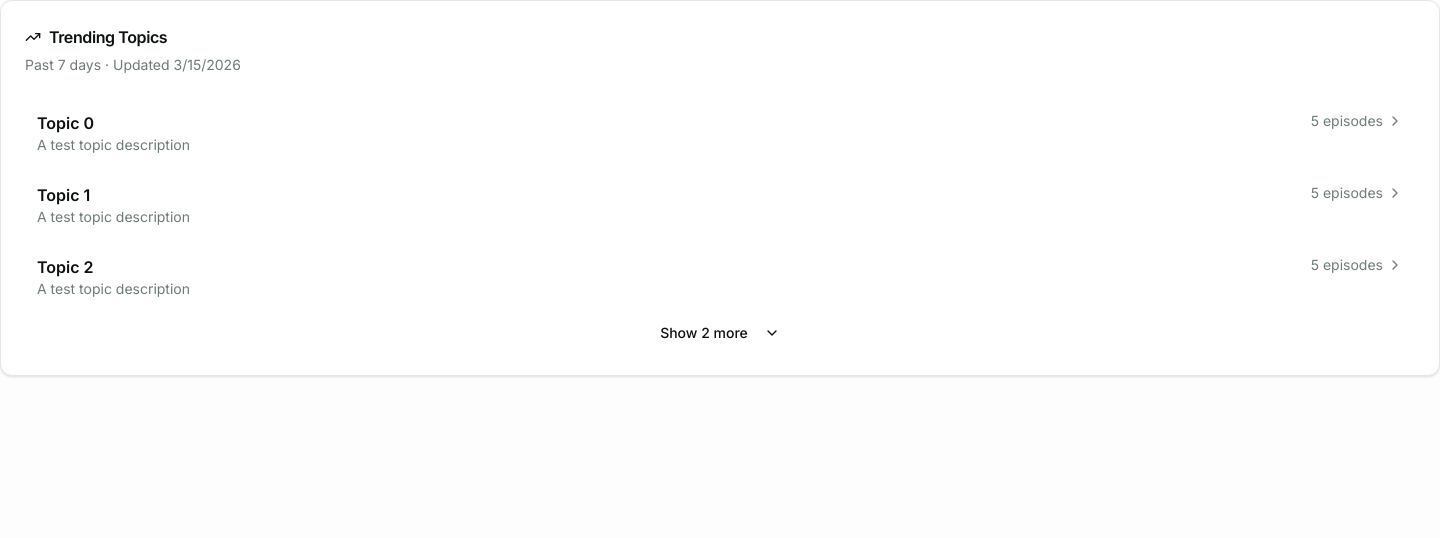
Test: TrendingTopics › toggle behaviour › shows 'Show less' button after expanding and re-collapses when clicked
The image size is (1440, 538).
Click the button "Show 2 more" at (720, 333), box [25,315,1415,351]
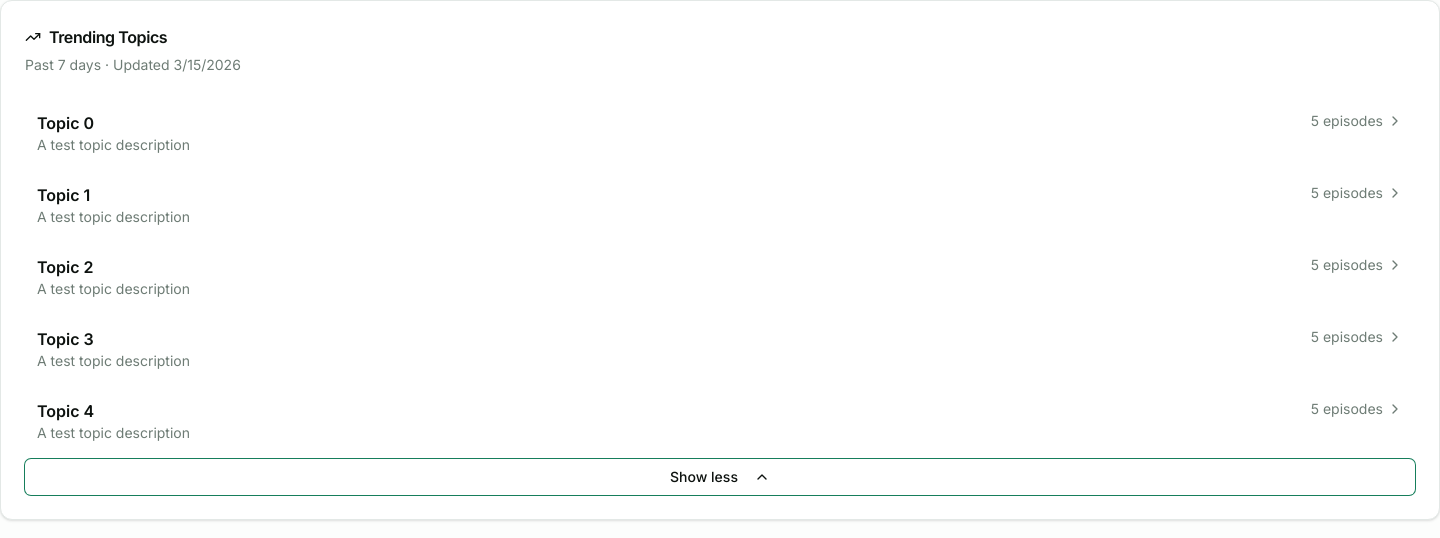
expect the button "Show less" is shown: met
Click the button "Show less" at (720, 477), box [25,459,1415,495]
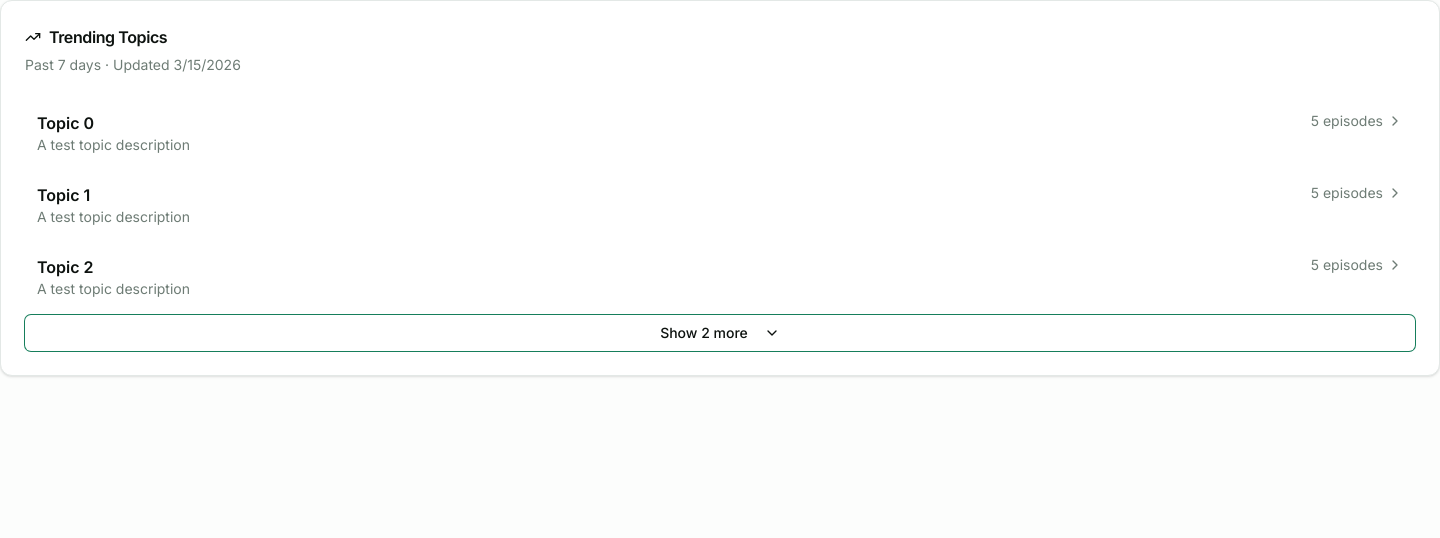
expect the number of links is 3: met, box [25,99,1415,167]; [25,171,1415,239]; [25,243,1415,311]
expect the button "Show less" is gone: met
